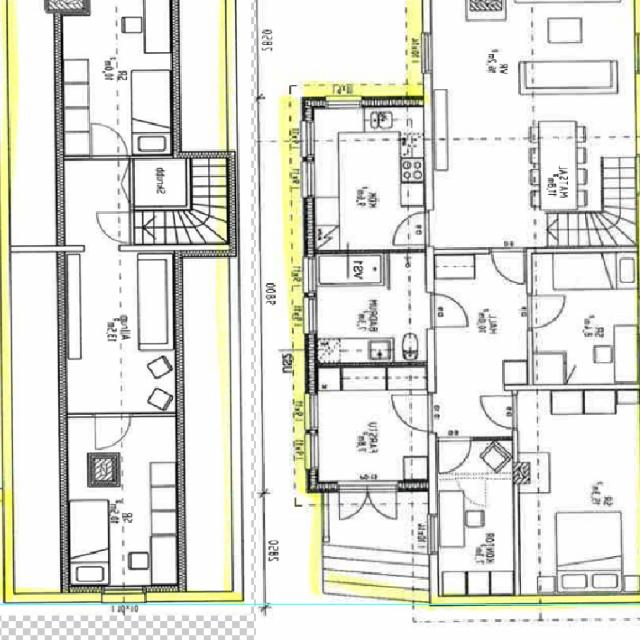door: (386, 394, 434, 432), (90, 117, 128, 159), (94, 413, 131, 454), (424, 294, 467, 328), (390, 211, 434, 244), (480, 395, 520, 430), (492, 248, 525, 287), (528, 296, 566, 328), (439, 436, 471, 473), (367, 480, 396, 519), (338, 480, 367, 519), (99, 212, 134, 242), (109, 162, 134, 183), (109, 183, 134, 203)
